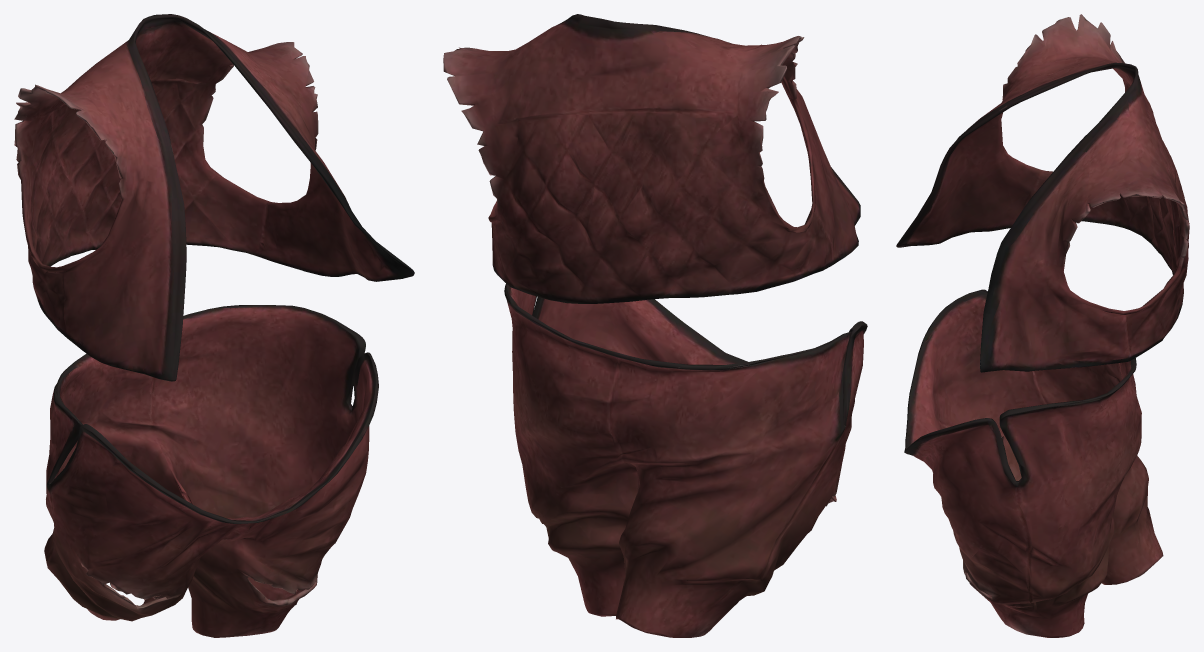
The picture shows the model from 3 angles, left to right: view 1: azimuth 30°, elevation 25°; view 2: azimuth 150°, elevation 25°; view 3: azimuth 270°, elevation 25°; orthographic projection. The views are drawn at different scales.
Visible parts, largest first — view 1: Kimono; view 2: Kimono; view 3: Kimono.
Part boxes in pixels (box(x1,y1,x2,y2)): Kimono: box(14, 14, 414, 637); Kimono: box(443, 14, 867, 637); Kimono: box(896, 14, 1189, 637).
Bounding box in the file's own units: 0.9904 × 1.63 × 0.7981.
1 material, 1 textured.
